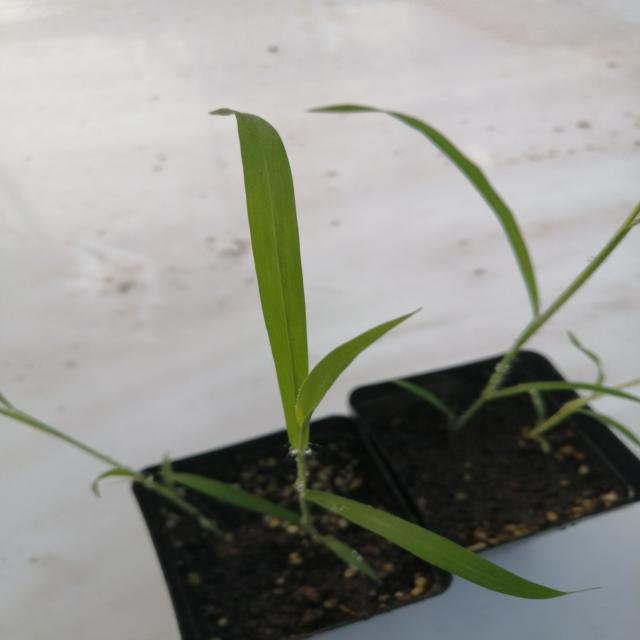crabgrass: (144, 54, 478, 612)
